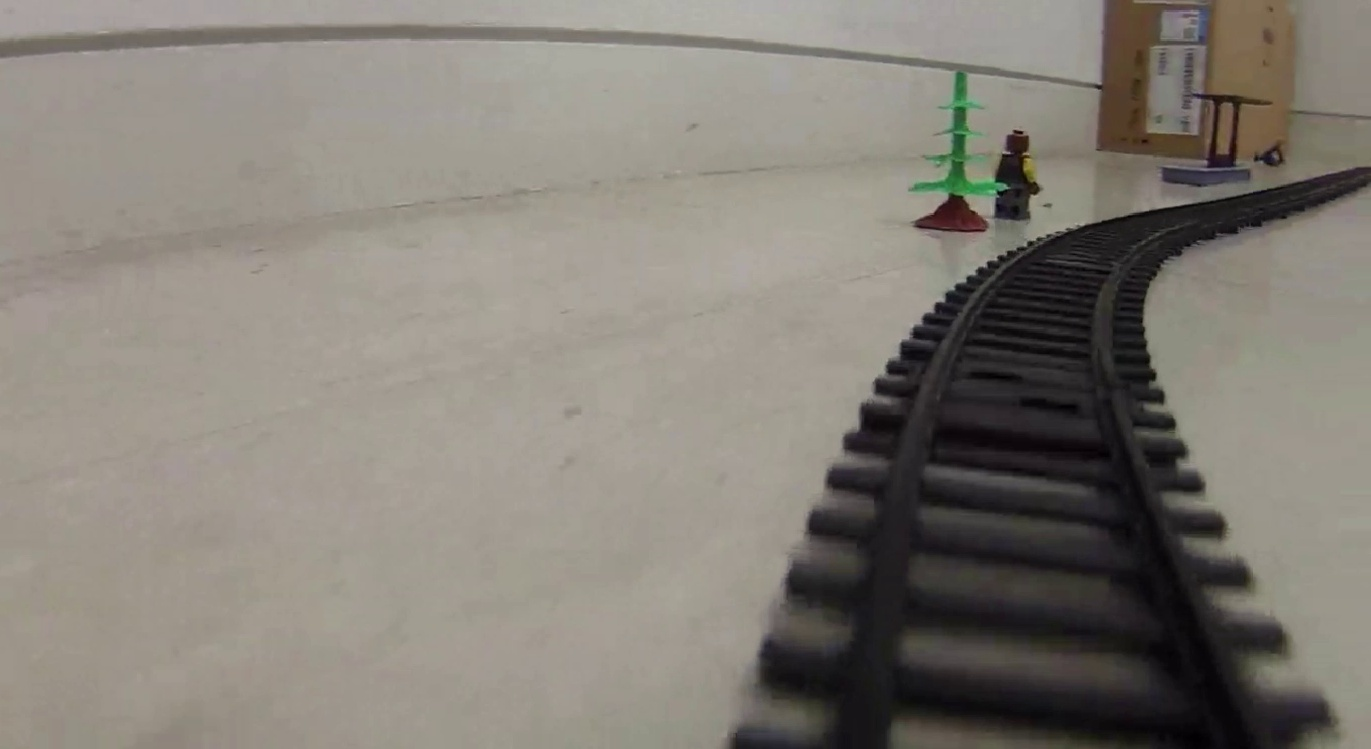people: (993, 128, 1043, 224)
tree: (909, 70, 996, 234)
